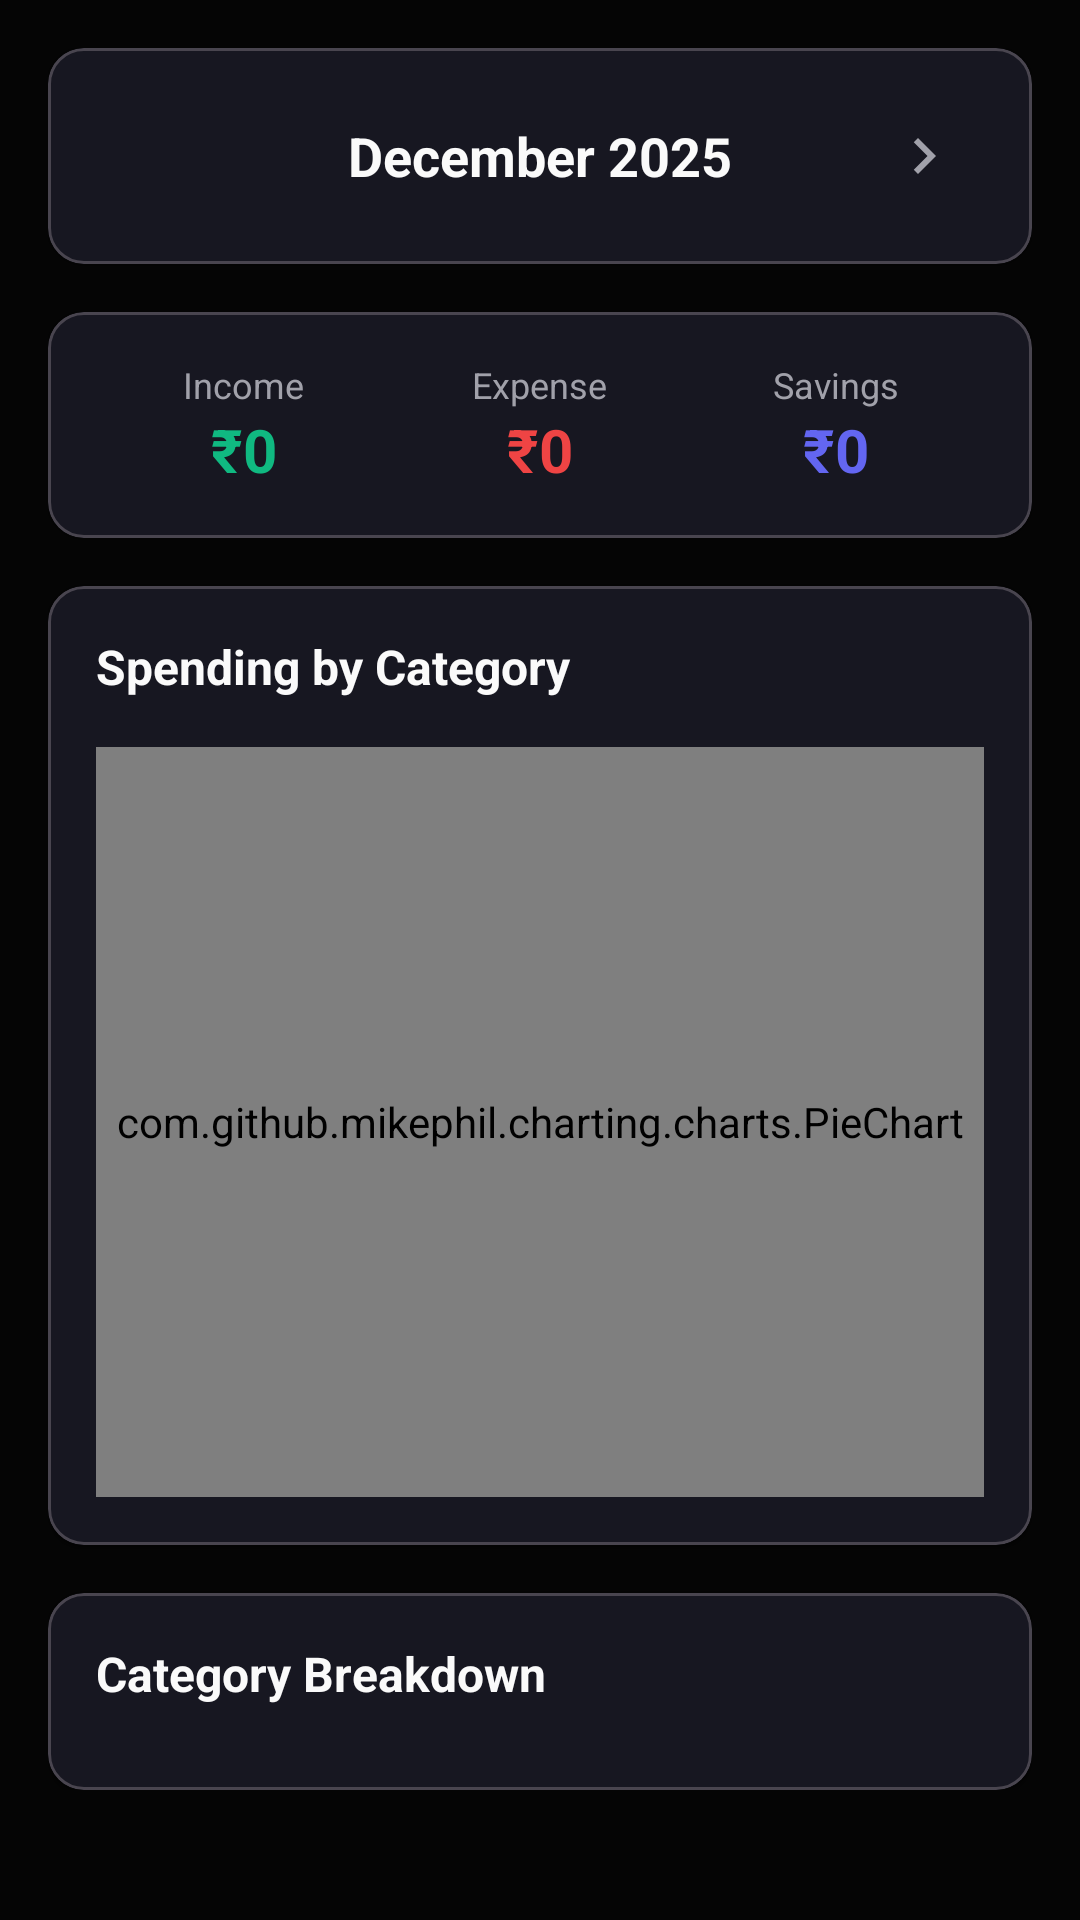

Screen size 1080x1920. Icon name, then its center in pixels as point (x, y):
Next Month: point (925, 156)
